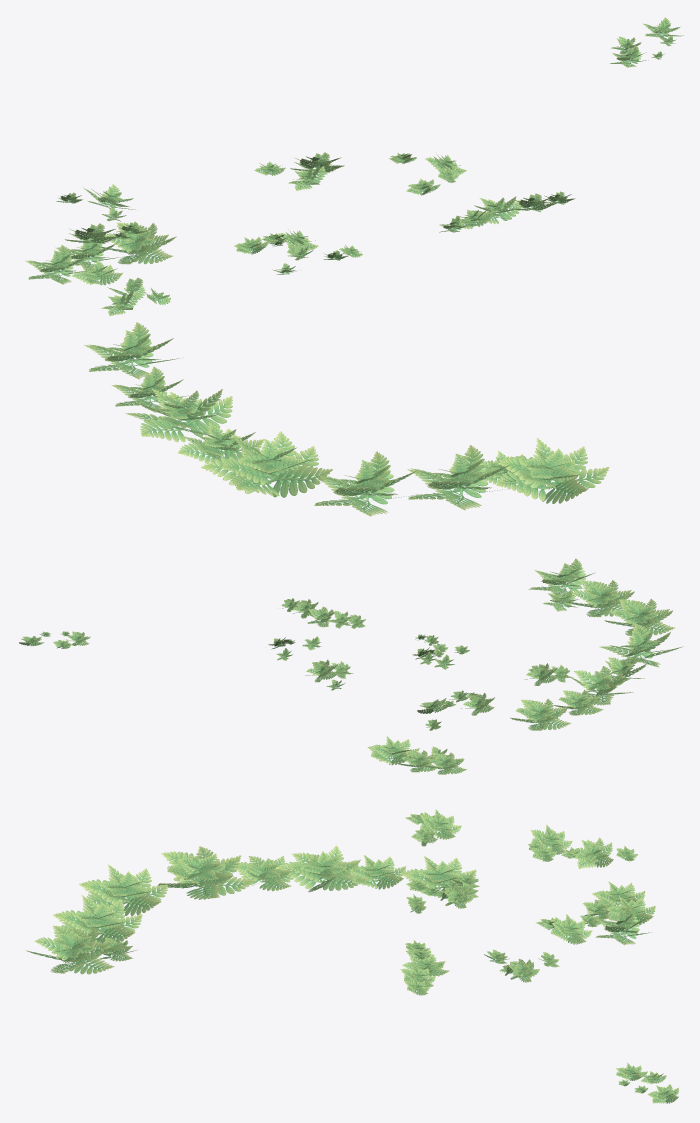
File: nuevo_helechos.glb
3 views of the same model, one above another, from view 1: azimuth 30°, elevation 25°; view 2: azimuth 150°, elevation 25°; view 3: azimuth 270°, elevation 25° (orthographic). The views are drawn at different scales.
Visible parts, largest first — view 1: Helecho_1.040, Helecho_1.042, Helecho_1.038, Helecho_1.041, Helecho_1.043, Helecho_1.036, Helecho_1.039, Helecho_1.054, Helecho_1.037, Helecho_1.087; view 2: Helecho_1.043, Helecho_1.041, Helecho_1.040, Helecho_1.036, Helecho_1.038, Helecho_1.042, Helecho_1.054, Helecho_1.037, Helecho_1.087, Helecho_1.004, Helecho_1.039, Helecho_1.015 (+4 smaller); view 3: Helecho_1.040, Helecho_1.042, Helecho_1.043, Helecho_1.038, Helecho_1.041, Helecho_1.039, Helecho_1.036, Helecho_1.037, Helecho_1.054, Helecho_1.030, Helecho_1.015, Helecho_1.012 (+7 smaller).
Boxes of the visible parts, <box> form: Helecho_1.040: <box>201,431,332,497</box>; Helecho_1.042: <box>496,438,609,503</box>; Helecho_1.038: <box>125,388,232,442</box>; Helecho_1.041: <box>407,445,510,510</box>; Helecho_1.043: <box>313,451,416,516</box>; Helecho_1.036: <box>84,322,183,379</box>; Helecho_1.039: <box>177,422,264,464</box>; Helecho_1.054: <box>96,222,176,264</box>; Helecho_1.037: <box>111,366,190,412</box>; Helecho_1.087: <box>25,245,91,284</box>; Helecho_1.043: <box>604,599,674,635</box>; Helecho_1.041: <box>565,580,634,617</box>; Helecho_1.040: <box>599,623,683,667</box>; Helecho_1.036: <box>510,699,571,730</box>; Helecho_1.038: <box>568,666,633,705</box>; Helecho_1.042: <box>528,558,595,598</box>; Helecho_1.054: <box>367,736,419,765</box>; Helecho_1.037: <box>554,689,603,715</box>; Helecho_1.087: <box>424,752,466,774</box>; Helecho_1.004: <box>397,750,438,772</box>; Helecho_1.039: <box>597,657,646,685</box>; Helecho_1.015: <box>305,659,338,682</box>; Helecho_1.040: <box>158,846,255,899</box>; Helecho_1.042: <box>25,925,119,974</box>; Helecho_1.043: <box>79,864,168,915</box>; Helecho_1.038: <box>276,845,367,892</box>; Helecho_1.041: <box>53,895,142,943</box>; Helecho_1.039: <box>233,855,297,891</box>; Helecho_1.036: <box>400,856,476,897</box>; Helecho_1.037: <box>345,855,406,889</box>; Helecho_1.054: <box>595,904,651,945</box>; Helecho_1.030: <box>570,837,613,869</box>; Helecho_1.015: <box>550,914,592,944</box>; Helecho_1.012: <box>419,809,461,839</box>.
Size of the model in its own units: 286 by 40.2 by 270.
1 material, 1 textured.
